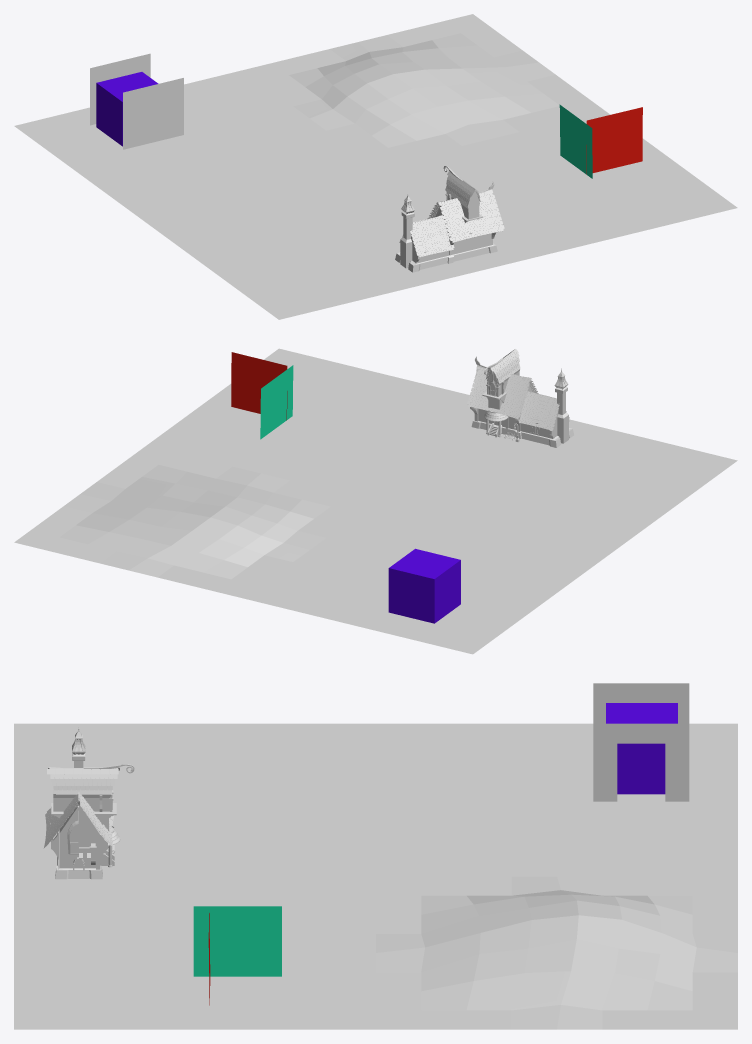
Rendered from level7.glb.
3 renders of one model, top to bottom at view 1: azimuth 30°, elevation 25°; view 2: azimuth 150°, elevation 25°; view 3: azimuth 270°, elevation 25°, orthographic. The views are drawn at different scales.
Visible parts, largest first — view 1: ground, house, wall, red_plane, blue_cube, green_plane; view 2: ground, house, blue_cube, red_plane, green_plane; view 3: ground, house, wall, green_plane, blue_cube.
Part boxes in pixels (bbox=[...]): ground: bbox=[14, 14, 737, 319]; house: bbox=[395, 165, 504, 272]; wall: bbox=[90, 53, 183, 149]; red_plane: bbox=[586, 107, 642, 174]; blue_cube: bbox=[96, 72, 158, 146]; green_plane: bbox=[559, 104, 592, 178]; ground: bbox=[14, 348, 737, 654]; house: bbox=[467, 349, 573, 447]; blue_cube: bbox=[388, 548, 460, 623]; red_plane: bbox=[231, 352, 287, 420]; green_plane: bbox=[260, 365, 293, 439]; ground: bbox=[14, 723, 737, 1029]; house: bbox=[43, 727, 134, 879]; wall: bbox=[593, 683, 689, 801]; green_plane: bbox=[193, 906, 281, 976]; blue_cube: bbox=[606, 703, 677, 794].
Bounding box in the file's own units: 16.36 × 2.73 × 16.36.
